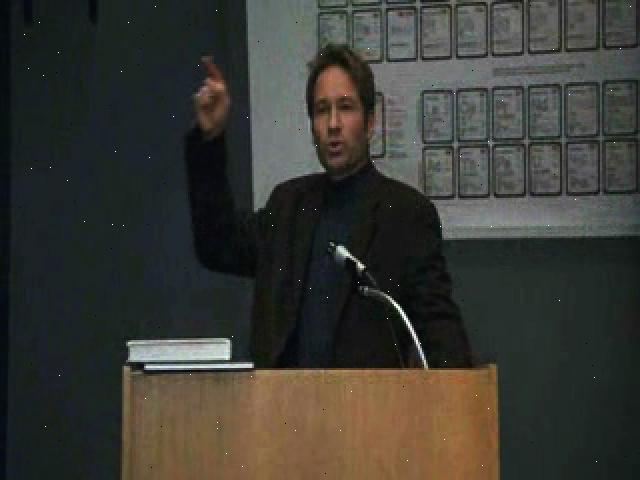T: (171, 36, 475, 371)
